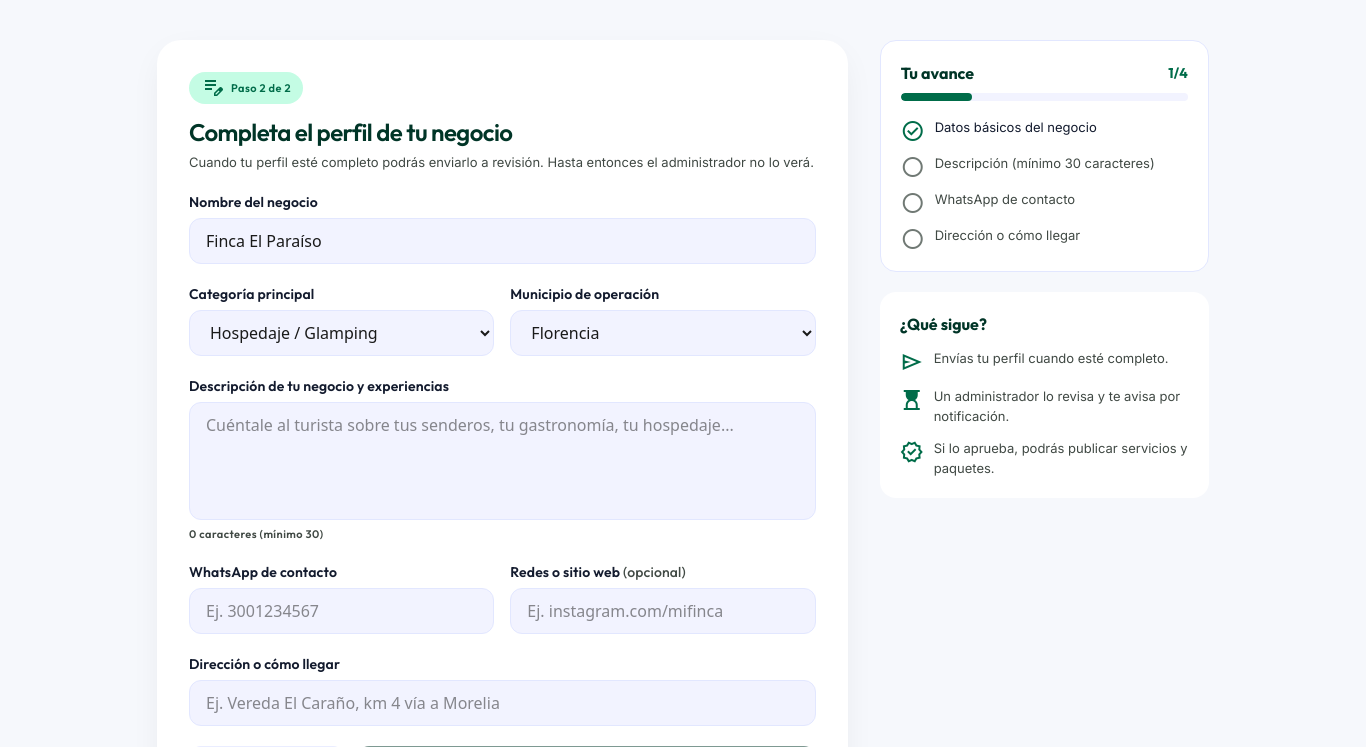
Test: CompletarPerfil › el avance y el botón se actualizan al completar cada requisito
Type "corta" into the text box with placeholder "Cuéntale al turista" at (502, 461), box left=189, top=402, right=816, bottom=520
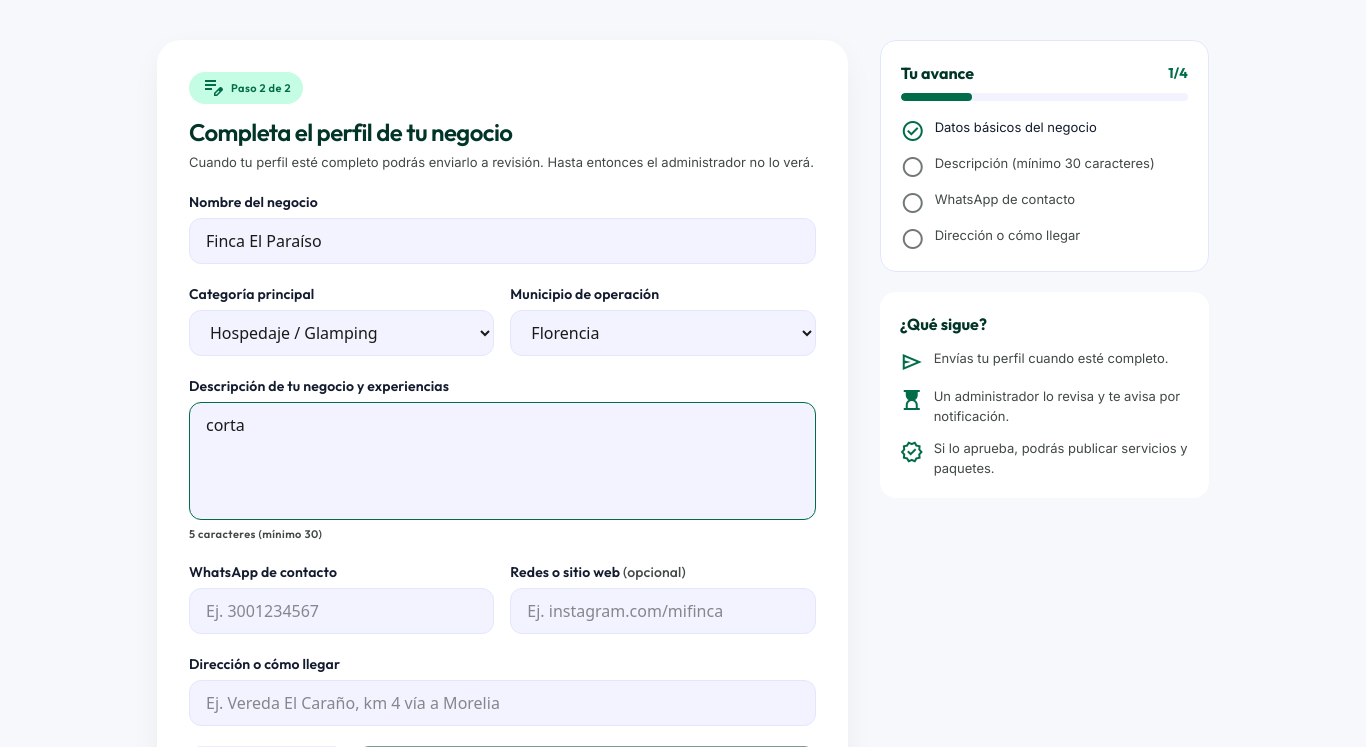
Expected: the text "1/4" is shown, left=1168, top=63, right=1188, bottom=83
Replace the text in the text box with placeholder "Cuéntale al turista" with "Finca de hospedaje rodeada de naturaleza, con cabañas y senderos." at (502, 461), box left=189, top=402, right=816, bottom=520
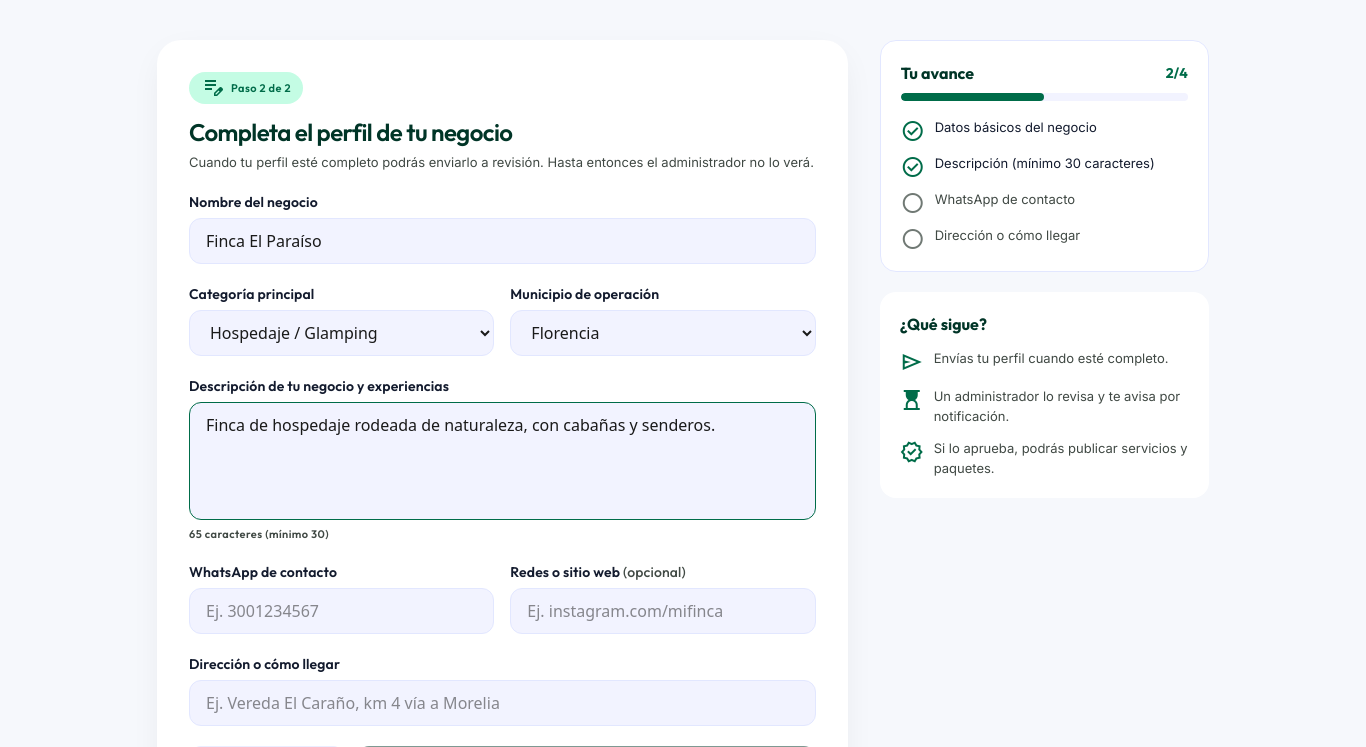
Expected: the text "2/4" is shown, left=1166, top=63, right=1188, bottom=83
Type "300 123-4567" into the field with placeholder "Ej. 3001234567" at (342, 611), box left=189, top=588, right=494, bottom=634
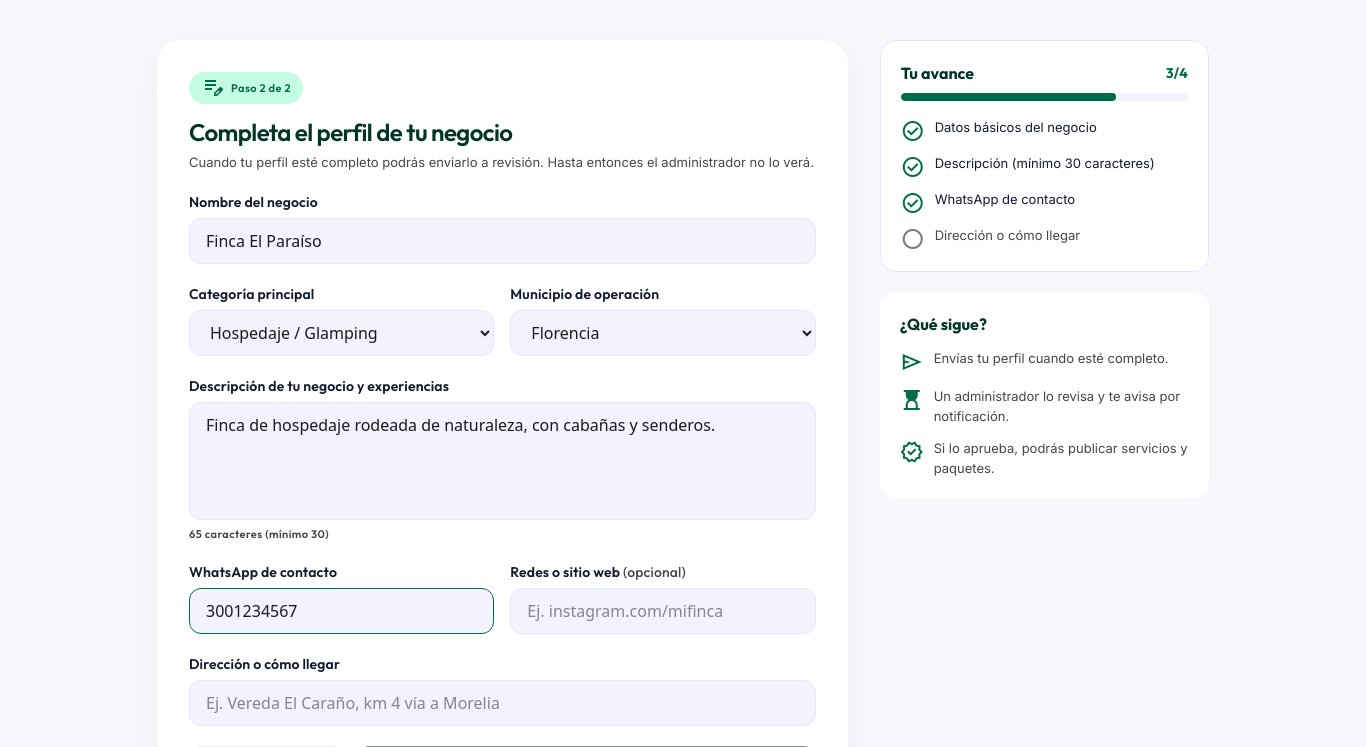
Expected: the text "3/4" is shown, left=1166, top=63, right=1188, bottom=83
Type "Vereda El Caraño, km 4" into the field with placeholder "Ej. Vereda El Caraño, km 4 vía a Morelia" at (502, 703), box left=189, top=680, right=816, bottom=726
(page scrolled)
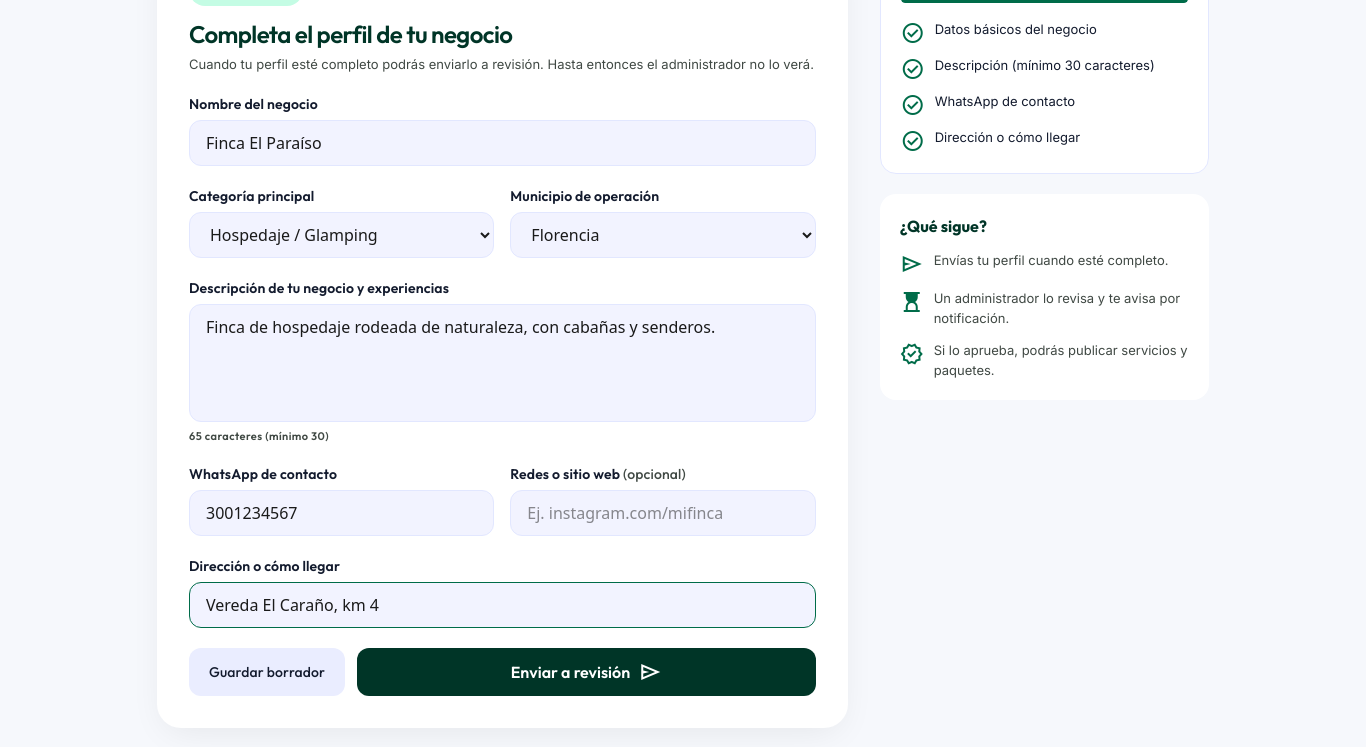
Expected: the button "Enviar a revisión" is enabled, left=357, top=648, right=816, bottom=696
